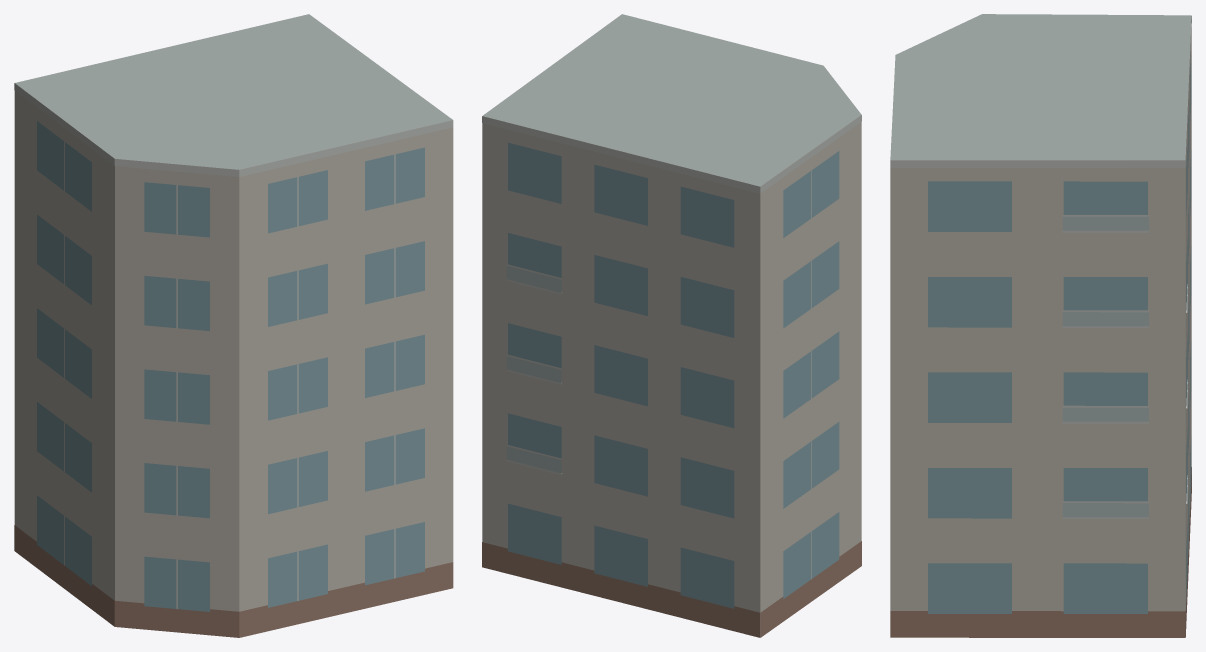
Rendered from survey-upis-32737675.glb.
3 views of the same model, side by side, from view 1: azimuth 30°, elevation 25°; view 2: azimuth 150°, elevation 25°; view 3: azimuth 270°, elevation 25° (orthographic). The views are drawn at different scales.
Parts seen in each view (by area): view 1: survey-upis-32737675.tmp; view 2: survey-upis-32737675.tmp; view 3: survey-upis-32737675.tmp.
Boxes of the visible parts, box(x1,y1,x2,y2) form: survey-upis-32737675.tmp: box(14, 14, 453, 637); survey-upis-32737675.tmp: box(482, 14, 861, 637); survey-upis-32737675.tmp: box(890, 14, 1191, 637).
Size of the model in its own units: 10.43 by 15.8 by 9.05.
